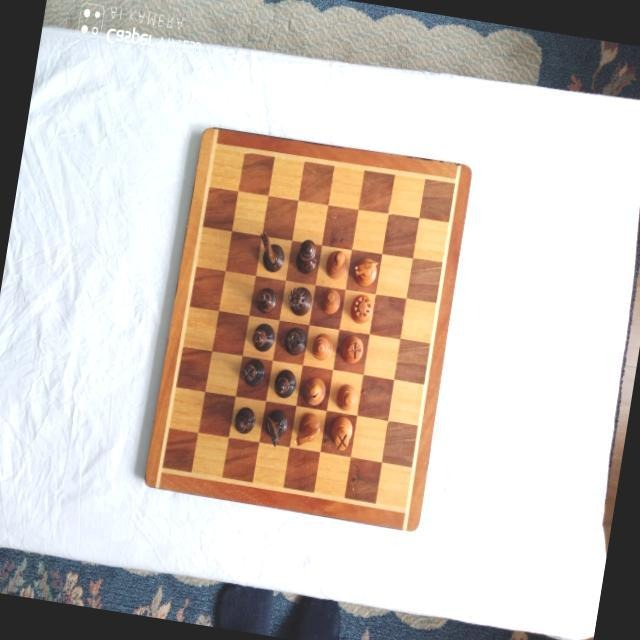black-bishop: (250, 320, 278, 355), (271, 367, 298, 401)
black-king: (294, 237, 321, 275)
black-knight: (255, 230, 289, 274), (261, 407, 291, 448)
black-pawn: (253, 285, 279, 315), (232, 404, 257, 435)
black-queen: (285, 284, 315, 318)
black-rook: (240, 355, 267, 388), (283, 324, 309, 358)
white-bishop: (301, 374, 328, 407), (323, 248, 349, 281)
white-king: (311, 331, 337, 363)
white-knight: (293, 410, 322, 449), (351, 254, 381, 290)
white-pawn: (334, 382, 358, 413), (320, 286, 344, 317)
white-queen: (349, 294, 375, 326)
white-rook: (328, 414, 356, 453), (338, 333, 365, 366)
